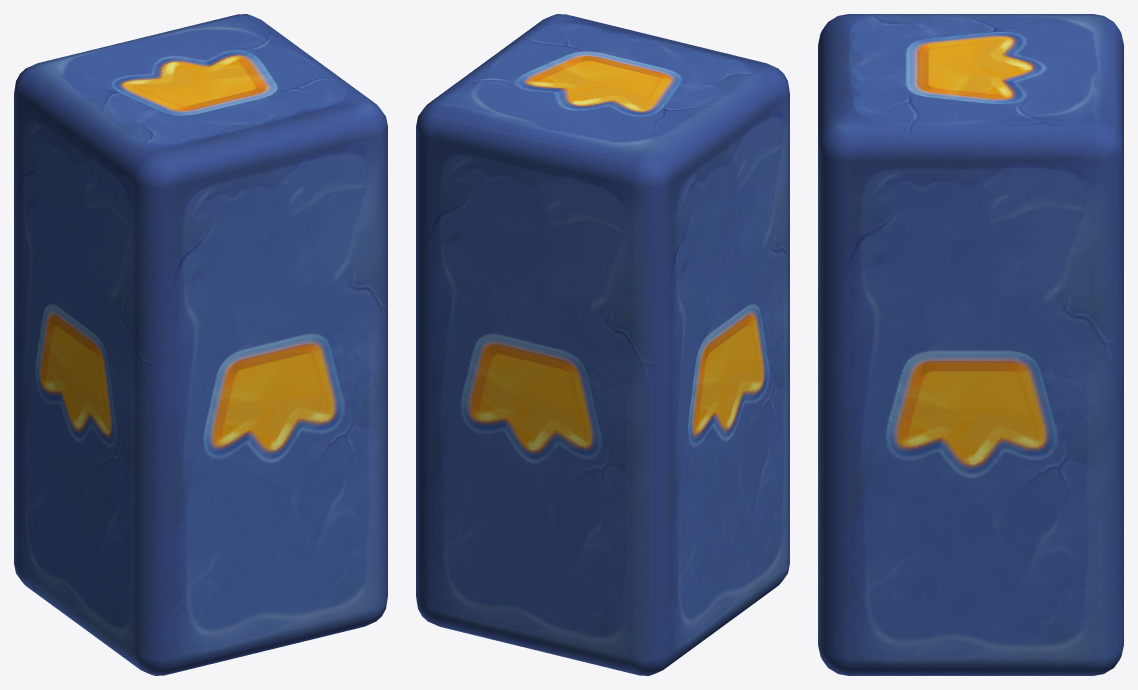
3 views of the same model, side by side, from view 1: azimuth 30°, elevation 25°; view 2: azimuth 150°, elevation 25°; view 3: azimuth 270°, elevation 25° (orthographic). The views are drawn at different scales.
Parts seen in each view (by area): view 1: 4031; view 2: 4031; view 3: 4031.
Part boxes in pixels (x1=…): 4031: x1=14, y1=14, x2=387, y2=675; 4031: x1=416, y1=14, x2=789, y2=675; 4031: x1=818, y1=14, x2=1123, y2=675.
Size of the model in its own units: 1 by 2 by 1.
1 material, 1 textured.
